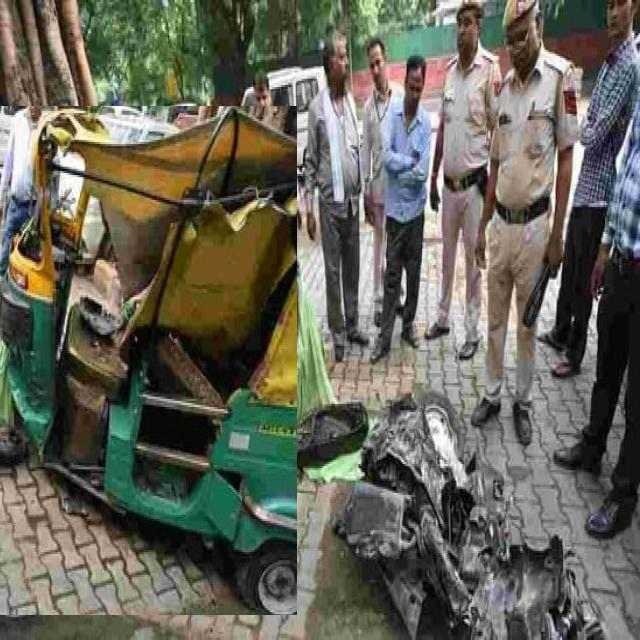accident: (0, 107, 297, 615)
